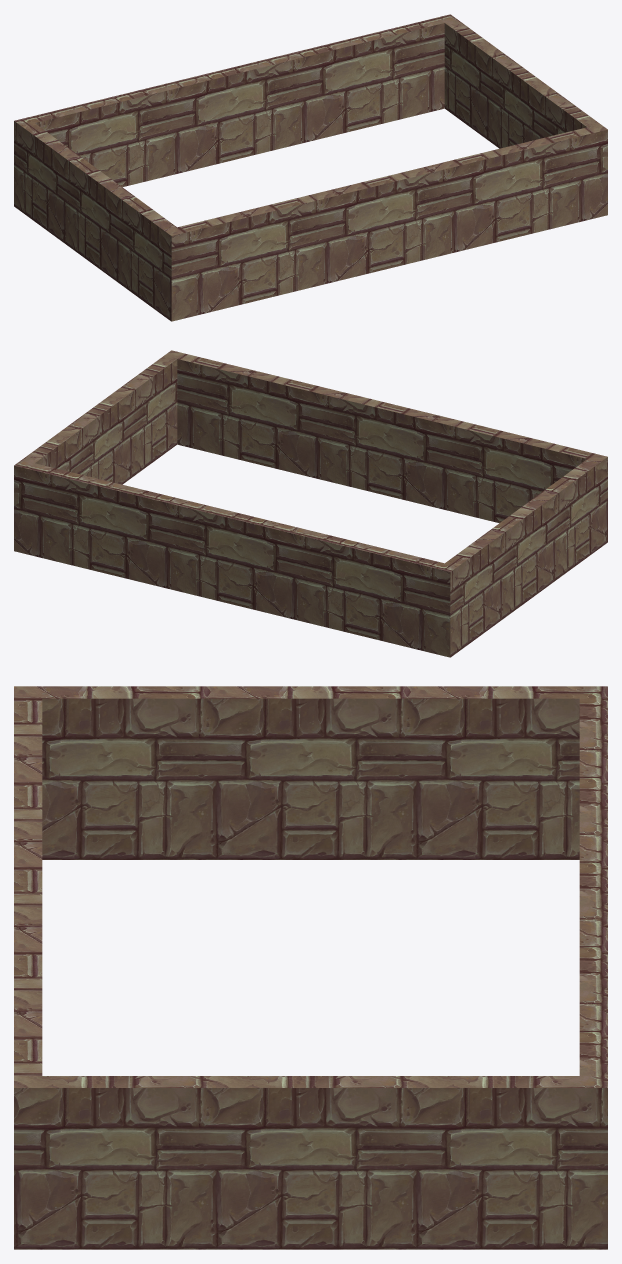
File: walls.fbx
3 renders of one model, top to bottom at view 1: azimuth 30°, elevation 25°; view 2: azimuth 150°, elevation 25°; view 3: azimuth 270°, elevation 25°, orthographic. The views are drawn at different scales.
Visible parts, largest first — view 1: Walls, Walls.003, Walls.001, Walls.002, Walls.004; view 2: Walls, Walls.001, Walls.003, Walls.002, Walls.004; view 3: Walls, Walls.002, Walls.004, Walls.001, Walls.003.
Part boxes in pixels (left/top/right/bottom): Walls: left=14, top=14, right=607, bottom=321; Walls.003: left=362, top=172, right=409, bottom=273; Walls.001: left=213, top=62, right=259, bottom=163; Walls.002: left=81, top=167, right=116, bottom=271; Walls.004: left=504, top=63, right=539, bottom=147; Walls: left=14, top=350, right=607, bottom=657; Walls.001: left=212, top=508, right=259, bottom=609; Walls.003: left=362, top=398, right=408, bottom=499; Walls.002: left=505, top=503, right=540, bottom=607; Walls.004: left=82, top=399, right=117, bottom=483; Walls: left=14, top=686, right=607, bottom=1249; Walls.002: left=268, top=686, right=353, bottom=859; Walls.004: left=268, top=1076, right=353, bottom=1249; Walls.001: left=579, top=869, right=607, bottom=905; Walls.003: left=14, top=869, right=42, bottom=905.
Size of the model in its own units: 1600 by 300 by 1000.
